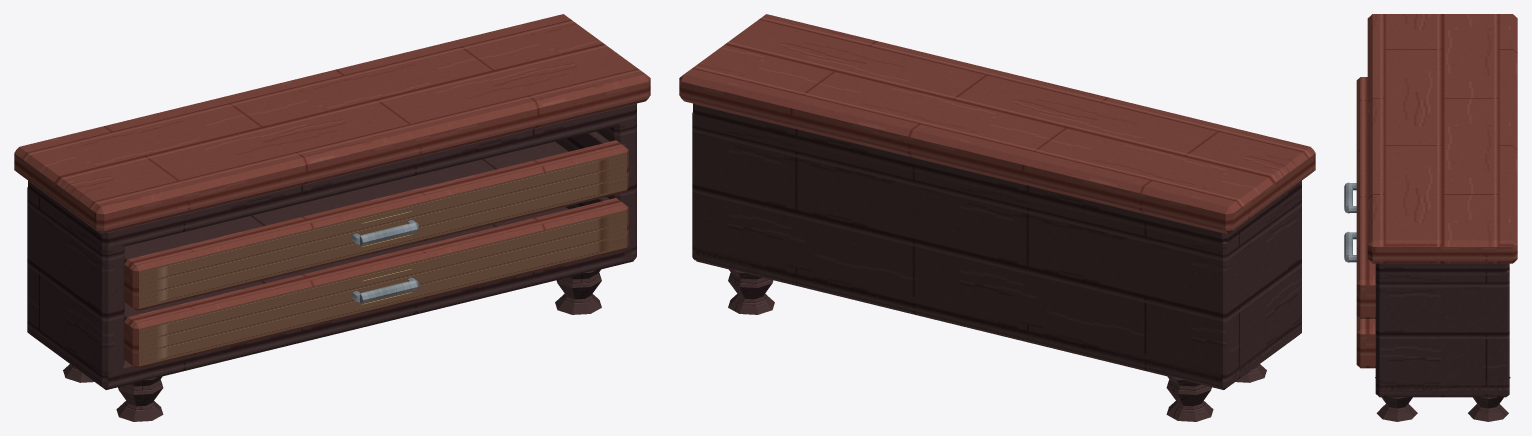
File: MD_28_MediaConsole.fbx
3 views of the same model, side by side, from view 1: azimuth 30°, elevation 25°; view 2: azimuth 150°, elevation 25°; view 3: azimuth 270°, elevation 25° (orthographic). The views are drawn at different scales.
Visible parts, largest first — view 1: MD_28_MediaConsole_cabinet_crown, MD_28_MediaConsole_sliding_drawer, MD_28_MediaConsole_sliding_drawer.001, MD_28_MediaConsole_cabinet_side, MD_28_MediaConsole_cabinet_shelf.001, MD_28_MediaConsole_cabinet_shelf, MD_28_MediaConsole_drawer_tray_floor.001, MD_28_MediaConsole_cabinet_side.001, MD_28_MediaConsole_drawer_tray_floor, MD_28_MediaConsole_turned_leg, MD_28_MediaConsole_turned_leg.002, MD_28_MediaConsole_drawer_handle_grip (+2 smaller); view 2: MD_28_MediaConsole_cabinet_back, MD_28_MediaConsole_cabinet_crown, MD_28_MediaConsole_cabinet_side, MD_28_MediaConsole_cabinet_shelf, MD_28_MediaConsole_cabinet_shelf.001, MD_28_MediaConsole_cabinet_side.001, MD_28_MediaConsole_turned_leg.001, MD_28_MediaConsole_turned_leg.003; view 3: MD_28_MediaConsole_cabinet_crown, MD_28_MediaConsole_cabinet_side.001, MD_28_MediaConsole_sliding_drawer.001, MD_28_MediaConsole_cabinet_shelf.001, MD_28_MediaConsole_cabinet_shelf, MD_28_MediaConsole_cabinet_back, MD_28_MediaConsole_sliding_drawer, MD_28_MediaConsole_turned_leg.002, MD_28_MediaConsole_turned_leg.003, MD_28_MediaConsole_drawer_handle_grip, MD_28_MediaConsole_drawer_handle_grip.001.
Part boxes in pixels (left/top/right/bottom): MD_28_MediaConsole_cabinet_crown: left=14, top=14, right=650, bottom=233; MD_28_MediaConsole_sliding_drawer: left=124, top=198, right=628, bottom=368; MD_28_MediaConsole_sliding_drawer.001: left=124, top=140, right=628, bottom=311; MD_28_MediaConsole_cabinet_side: left=28, top=190, right=124, bottom=385; MD_28_MediaConsole_cabinet_shelf.001: left=28, top=103, right=636, bottom=248; MD_28_MediaConsole_cabinet_shelf: left=28, top=241, right=636, bottom=389; MD_28_MediaConsole_drawer_tray_floor.001: left=124, top=141, right=568, bottom=257; MD_28_MediaConsole_cabinet_side.001: left=596, top=118, right=636, bottom=260; MD_28_MediaConsole_drawer_tray_floor: left=124, top=207, right=568, bottom=315; MD_28_MediaConsole_turned_leg: left=116, top=376, right=163, bottom=421; MD_28_MediaConsole_turned_leg.002: left=555, top=269, right=601, bottom=314; MD_28_MediaConsole_drawer_handle_grip: left=359, top=280, right=417, bottom=303; MD_28_MediaConsole_cabinet_back: left=692, top=112, right=1231, bottom=389; MD_28_MediaConsole_cabinet_crown: left=679, top=14, right=1315, bottom=233; MD_28_MediaConsole_cabinet_side: left=1206, top=190, right=1301, bottom=382; MD_28_MediaConsole_cabinet_shelf: left=694, top=244, right=1301, bottom=389; MD_28_MediaConsole_cabinet_shelf.001: left=693, top=103, right=1301, bottom=248; MD_28_MediaConsole_cabinet_side.001: left=694, top=116, right=709, bottom=259; MD_28_MediaConsole_turned_leg.001: left=1166, top=376, right=1213, bottom=421; MD_28_MediaConsole_turned_leg.003: left=728, top=269, right=774, bottom=314; MD_28_MediaConsole_cabinet_crown: left=1367, top=14, right=1517, bottom=263; MD_28_MediaConsole_cabinet_side.001: left=1375, top=272, right=1505, bottom=393; MD_28_MediaConsole_sliding_drawer.001: left=1356, top=77, right=1375, bottom=318; MD_28_MediaConsole_cabinet_shelf.001: left=1375, top=263, right=1509, bottom=276; MD_28_MediaConsole_cabinet_shelf: left=1375, top=382, right=1506, bottom=397; MD_28_MediaConsole_cabinet_back: left=1499, top=270, right=1509, bottom=396; MD_28_MediaConsole_sliding_drawer: left=1356, top=316, right=1375, bottom=368; MD_28_MediaConsole_turned_leg.002: left=1375, top=377, right=1417, bottom=421; MD_28_MediaConsole_turned_leg.003: left=1468, top=377, right=1510, bottom=421; MD_28_MediaConsole_drawer_handle_grip: left=1344, top=231, right=1352, bottom=262; MD_28_MediaConsole_drawer_handle_grip.001: left=1344, top=182, right=1352, bottom=213.
Size of the model in its own units: 1.71 by 0.68 by 0.544.
Materials: 4 (4 with a texture image).
